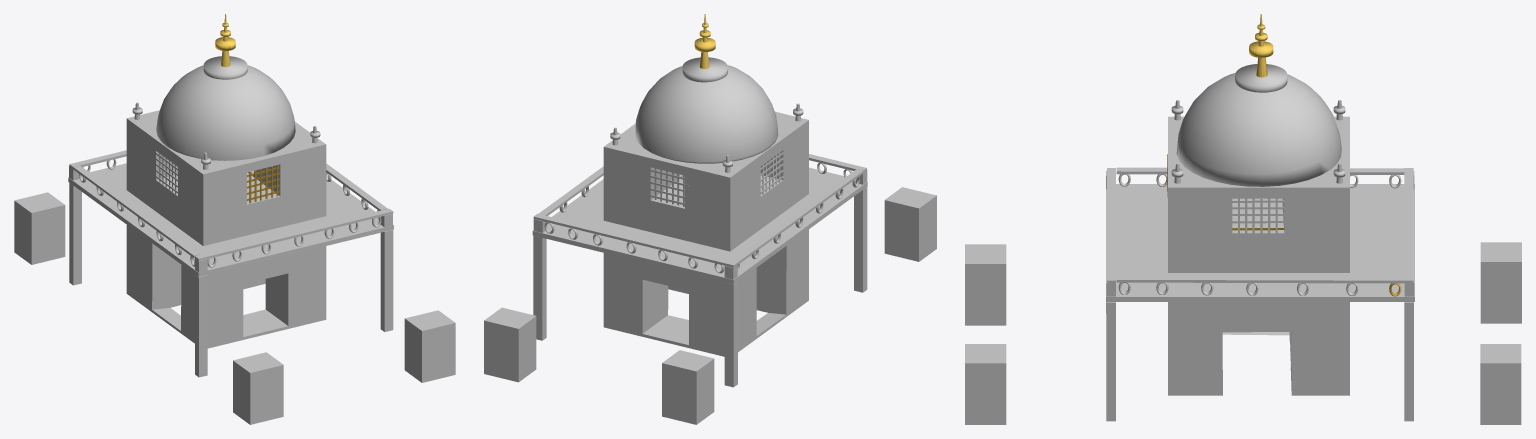
Rendered from main_temple.obj.
The picture shows the model from 3 angles, left to right: view 1: azimuth 30°, elevation 25°; view 2: azimuth 150°, elevation 25°; view 3: azimuth 270°, elevation 25°; orthographic projection. The views are drawn at different scales.
Visible parts, largest first — view 1: Cube_Cube.005, Sphere, Cube.006_Cube.011, Cube.003_Cube.007, Cube.004_Cube.009, Cube.005_Cube.010, Cube.010_Cube.015, Cube.017_Cube.022, Cube.007_Cube.012, Cube.008_Cube.013, Cube.019_Cube.024, Cylinder.006 (+2 smaller); view 2: Cube_Cube.005, Sphere, Cube.006_Cube.011, Cube.001_Cube.008, Cube.005_Cube.010, Cube.003_Cube.007, Cube.008_Cube.013, Cube.007_Cube.012, Cube.016_Cube.021, Cube.009_Cube.014, Cube.019_Cube.024, Cylinder.006 (+2 smaller); view 3: Cube_Cube.005, Cube.006_Cube.011, Sphere, Cube.003_Cube.007, Cube.005_Cube.010, Cube.001_Cube.008, Cube.004_Cube.009, Cube.018_Cube.023, Cube.009_Cube.014, Cube.010_Cube.015, Cylinder.006, Cube.016_Cube.021 (+2 smaller).
Part boxes in pixels (left/top/right/bottom): Cube_Cube.005: left=126, top=110, right=326, bottom=348; Sphere: left=156, top=65, right=295, bottom=160; Cube.006_Cube.011: left=68, top=163, right=393, bottom=276; Cube.003_Cube.007: left=14, top=192, right=65, bottom=264; Cube.004_Cube.009: left=404, top=310, right=455, bottom=382; Cube.005_Cube.010: left=233, top=352, right=283, bottom=424; Cube.010_Cube.015: left=380, top=230, right=393, bottom=331; Cube.017_Cube.022: left=194, top=208, right=393, bottom=260; Cube.007_Cube.012: left=195, top=275, right=207, bottom=377; Cube.008_Cube.013: left=69, top=183, right=81, bottom=285; Cube.019_Cube.024: left=73, top=165, right=200, bottom=257; Cylinder.006: left=203, top=56, right=247, bottom=79; Cube_Cube.005: left=603, top=111, right=808, bottom=356; Sphere: left=635, top=65, right=778, bottom=163; Cube.006_Cube.011: left=532, top=167, right=867, bottom=284; Cube.001_Cube.008: left=484, top=307, right=536, bottom=382; Cube.005_Cube.010: left=884, top=187, right=936, bottom=261; Cube.003_Cube.007: left=662, top=350, right=714, bottom=424; Cube.008_Cube.013: left=724, top=281, right=737, bottom=387; Cube.007_Cube.012: left=854, top=187, right=867, bottom=292; Cube.016_Cube.021: left=533, top=213, right=737, bottom=267; Cube.009_Cube.014: left=533, top=235, right=546, bottom=340; Cube.019_Cube.024: left=731, top=169, right=863, bottom=264; Cylinder.006: left=682, top=57, right=727, bottom=82; Cube_Cube.005: left=1168, top=116, right=1349, bottom=395; Cube.006_Cube.011: left=1106, top=184, right=1414, bottom=301; Sphere: left=1176, top=73, right=1341, bottom=186; Cube.003_Cube.007: left=1480, top=242, right=1521, bottom=323; Cube.005_Cube.010: left=965, top=244, right=1006, bottom=325; Cube.001_Cube.008: left=1480, top=344, right=1521, bottom=424; Cube.004_Cube.009: left=965, top=344, right=1006, bottom=424; Cube.018_Cube.023: left=1116, top=276, right=1404, bottom=283; Cube.009_Cube.014: left=1404, top=302, right=1413, bottom=421; Cube.010_Cube.015: left=1106, top=302, right=1115, bottom=421; Cylinder.006: left=1235, top=64, right=1287, bottom=92; Cube.016_Cube.021: left=1404, top=168, right=1413, bottom=283.
Size of the model in its own units: 7.94 by 10.83 by 15.61.
